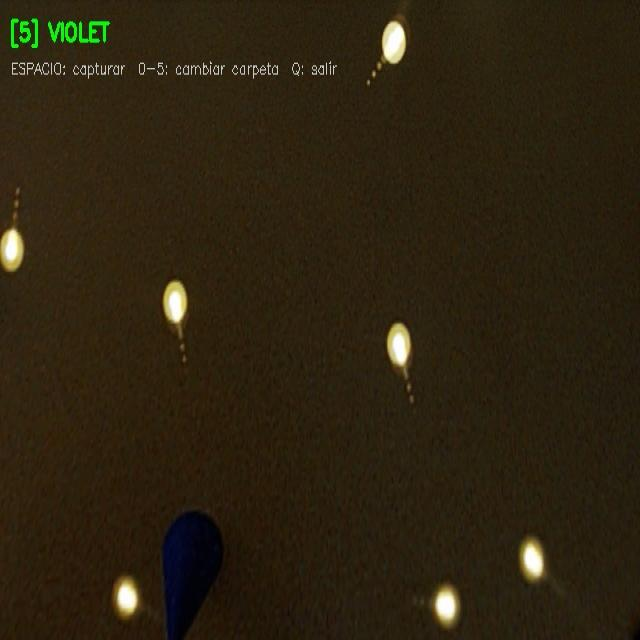violet: (163, 511, 222, 639)
